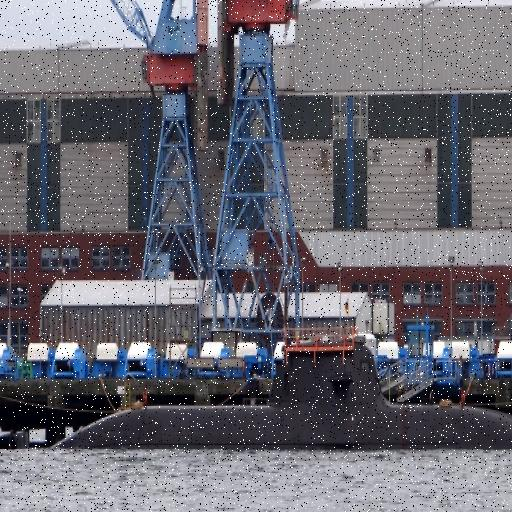submarine: (50, 341, 512, 447)
